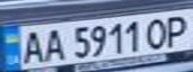1: (121, 17, 145, 52), (106, 20, 127, 54)
5: (69, 24, 93, 58)
9: (87, 22, 109, 56)
A: (39, 26, 69, 62), (18, 28, 48, 64)
O: (142, 15, 172, 49)
P: (160, 12, 193, 47)
